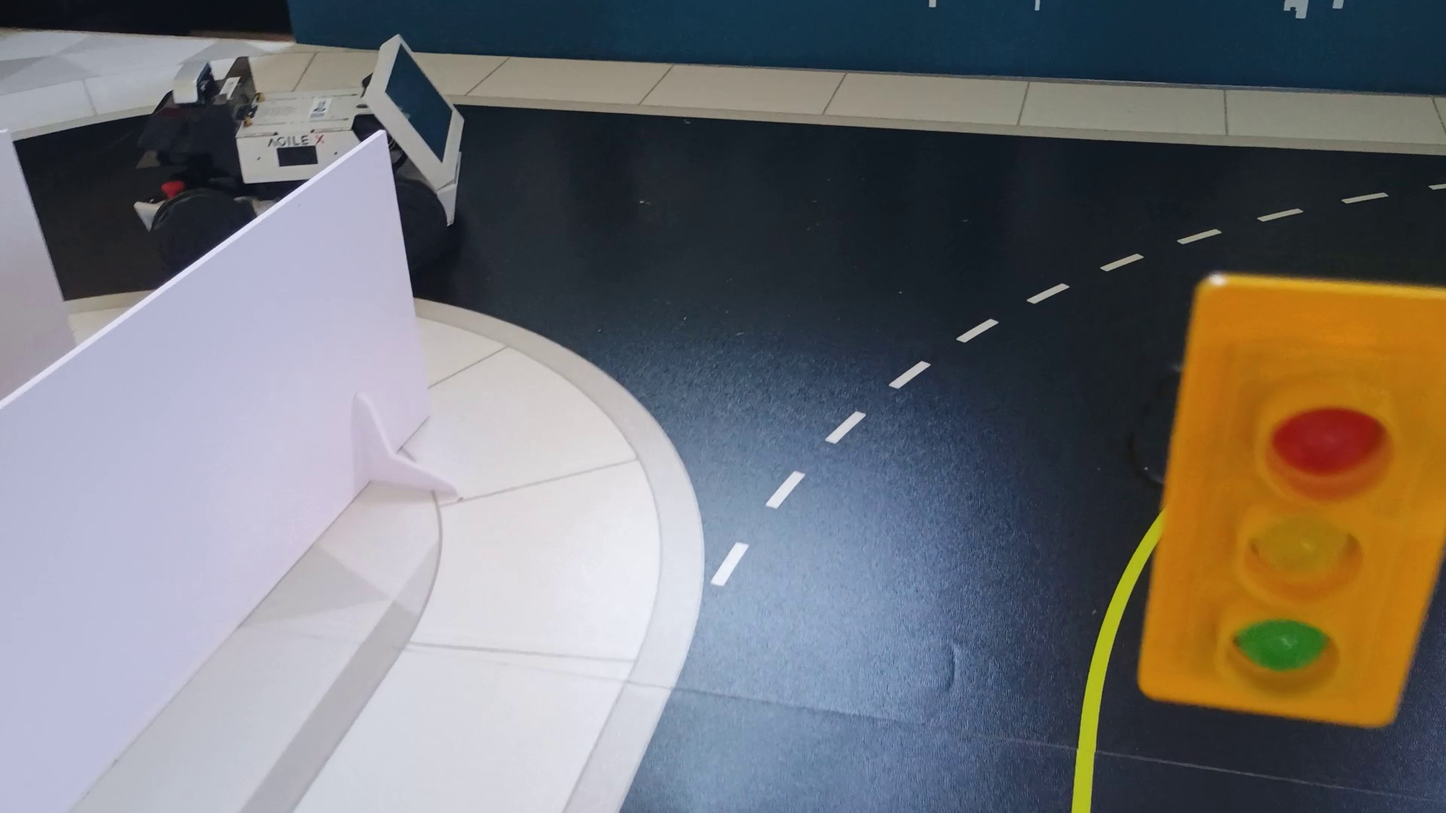Dashed: (711, 543, 748, 584), (767, 473, 803, 507), (826, 413, 865, 443), (890, 361, 929, 388), (957, 319, 998, 342), (1027, 283, 1069, 303), (1100, 254, 1142, 272), (1178, 229, 1222, 244), (1258, 209, 1303, 221), (1342, 193, 1387, 202), (1429, 183, 1445, 190)
Solid: (1071, 513, 1163, 812)
Street: (414, 105, 1445, 812), (1091, 568, 1445, 812), (1071, 512, 1162, 812), (17, 117, 159, 297)
